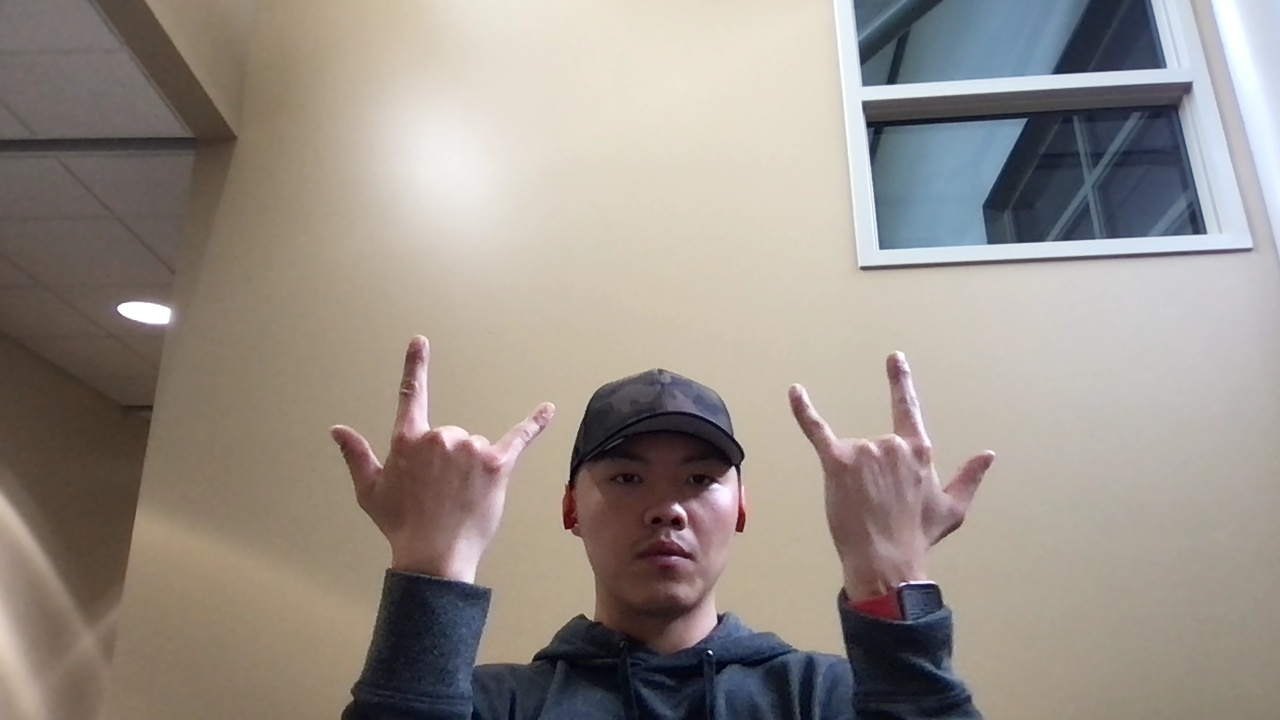I Love You: (328, 325, 566, 571), (774, 351, 1021, 567)
